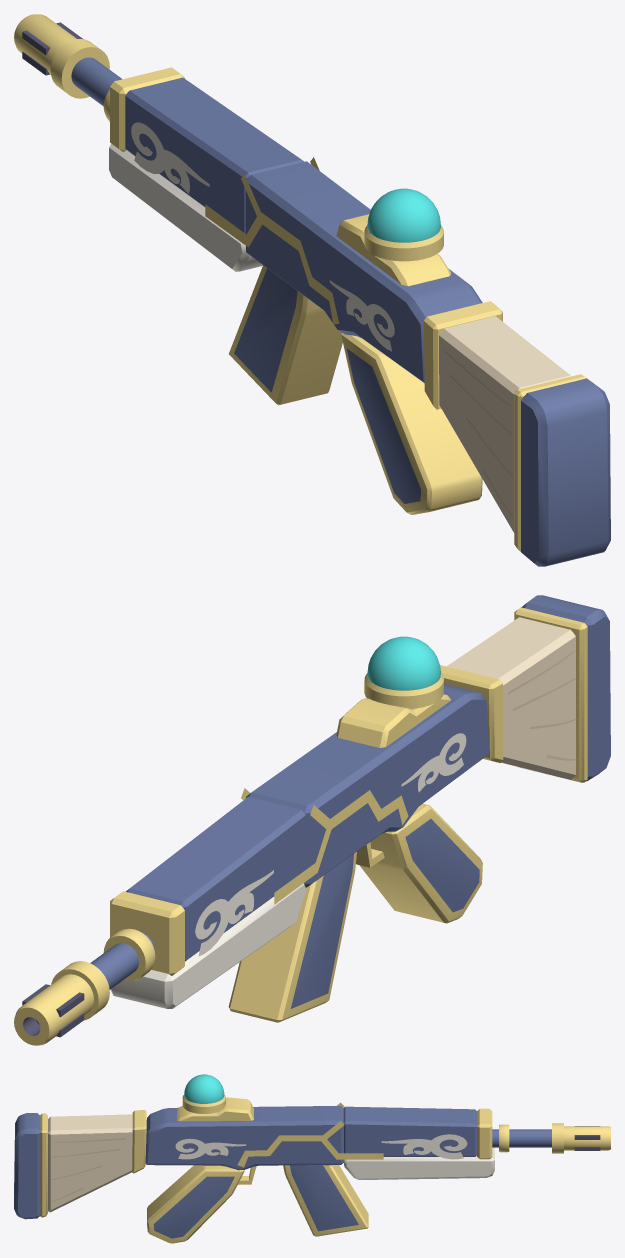
The model's file is weapon_rifle.glb.
3 views of the same model, one above another, from view 1: azimuth 30°, elevation 25°; view 2: azimuth 150°, elevation 25°; view 3: azimuth 270°, elevation 25° (orthographic). The views are drawn at different scales.
Parts seen in each view (by area): view 1: AR_Body, AR_MagGrip, AR_Gold, AR_Stock, AR_Guard, AR_Orb, AR_Clouds; view 2: AR_Body, AR_Gold, AR_MagGrip, AR_Stock, AR_Guard, AR_Orb, AR_Clouds, AR_Slots; view 3: AR_Body, AR_MagGrip, AR_Gold, AR_Stock, AR_Guard, AR_Clouds, AR_Orb, AR_Grain, AR_Slots.
Part boxes in pixels (x1,y1,x2,y2): AR_Body: [71, 57, 610, 566]; AR_MagGrip: [229, 265, 482, 514]; AR_Gold: [14, 14, 586, 551]; AR_Stock: [439, 316, 571, 532]; AR_Guard: [109, 144, 262, 271]; AR_Orb: [367, 188, 440, 242]; AR_Clouds: [131, 122, 394, 351]; AR_Body: [90, 595, 610, 989]; AR_Gold: [14, 607, 587, 1045]; AR_MagGrip: [228, 803, 482, 1022]; AR_Stock: [446, 617, 575, 779]; AR_Guard: [110, 883, 305, 1008]; AR_Orb: [367, 636, 440, 690]; AR_Clouds: [195, 733, 466, 956]; AR_Slots: [22, 984, 84, 1037]; AR_Body: [14, 1105, 551, 1219]; AR_MagGrip: [147, 1165, 368, 1243]; AR_Gold: [40, 1095, 610, 1217]; AR_Stock: [48, 1114, 132, 1212]; AR_Guard: [344, 1147, 494, 1179]; AR_Clouds: [175, 1134, 467, 1159]; AR_Orb: [184, 1074, 224, 1103]; AR_Grain: [51, 1138, 125, 1201]; AR_Slots: [574, 1126, 600, 1150].
Bounding box in the file's own units: 0.07 × 0.2733 × 0.9199.
